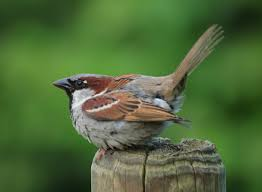hsparrow: (48, 20, 230, 161)
